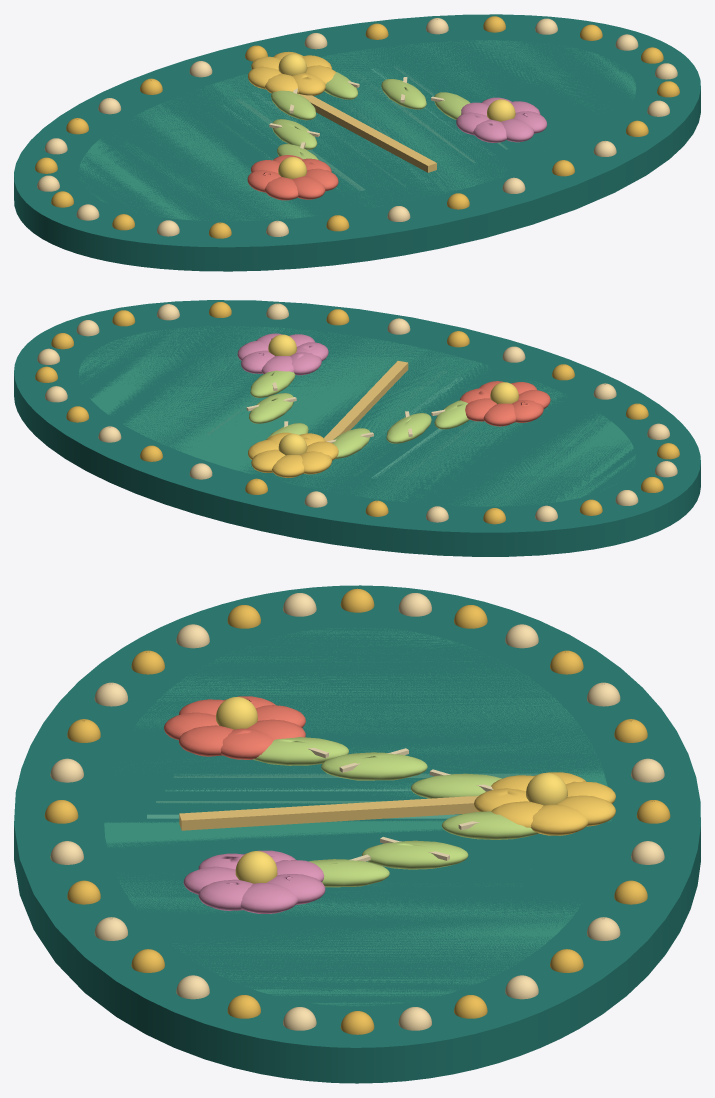
Rendered from gblb_welcome_mat.glb.
3 renders of one model, top to bottom at view 1: azimuth 30°, elevation 25°; view 2: azimuth 150°, elevation 25°; view 3: azimuth 270°, elevation 25°, orthographic. The views are drawn at different scales.
Size of the model in its own units: 0.78 by 0.061 by 0.4897.
